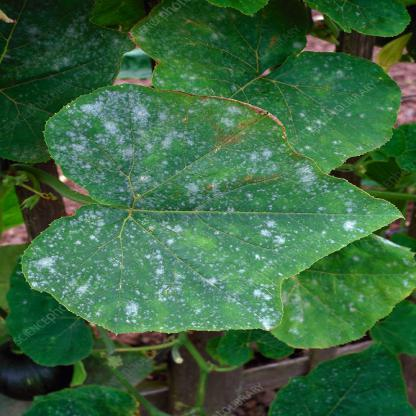squash powdery mildew leaf: (16, 86, 407, 336)
